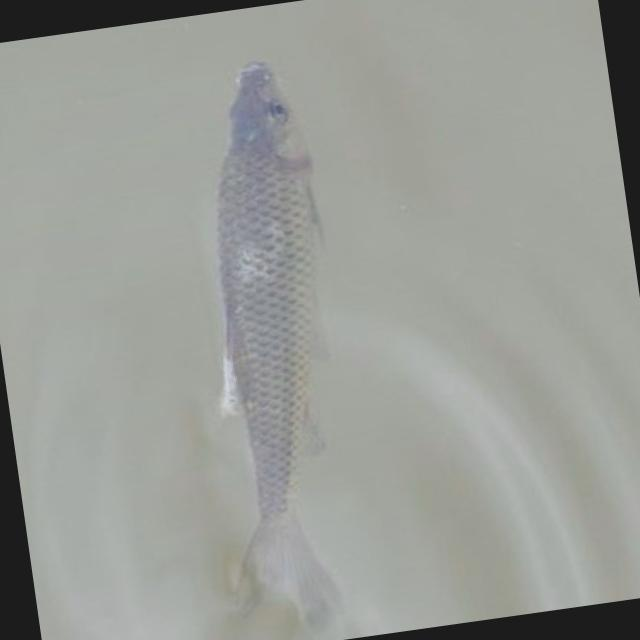Cakil Baligi: (127, 50, 389, 640)
